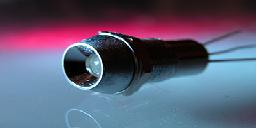LED: (59, 21, 256, 98)
